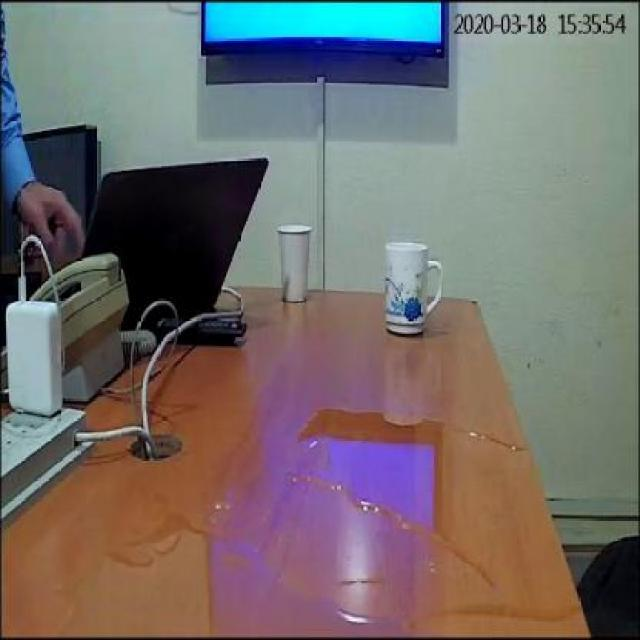spill: (298, 402, 582, 616), (100, 524, 398, 636)
